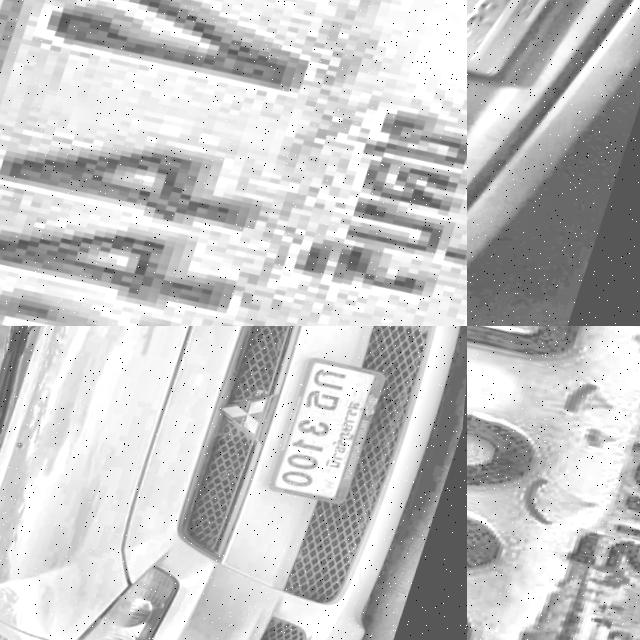license-plate: (0, 0, 467, 326), (467, 326, 640, 640), (264, 353, 398, 515), (467, 0, 640, 115)
